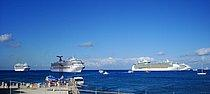Ship: (47, 54, 91, 77)
